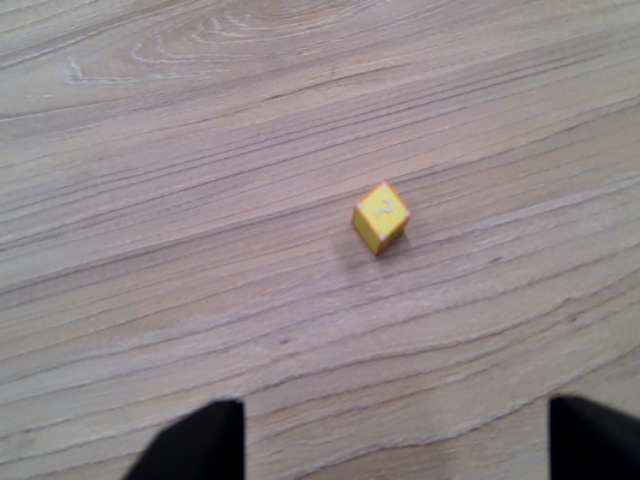lucky: (347, 176, 413, 261)
